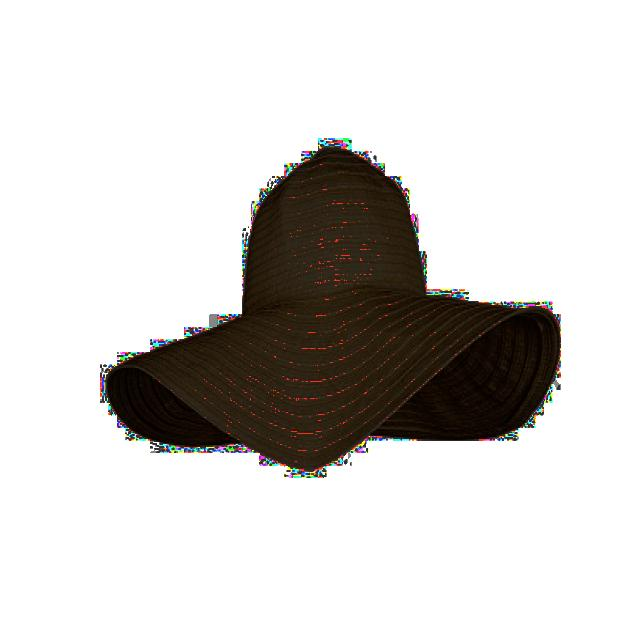TOPI: (101, 140, 567, 475)
